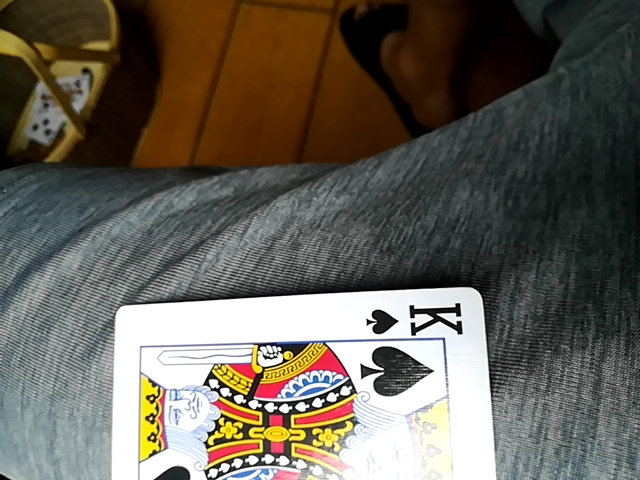ht k: (111, 285, 496, 480)
